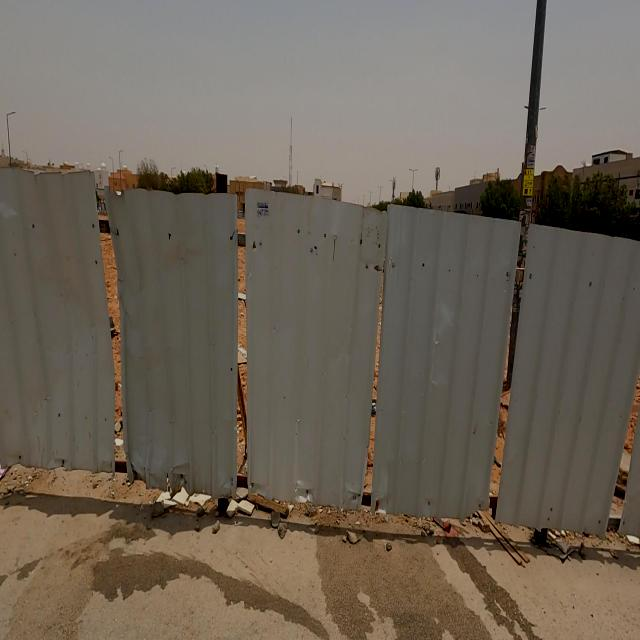debris: (192, 428, 308, 580), (122, 436, 236, 550)
